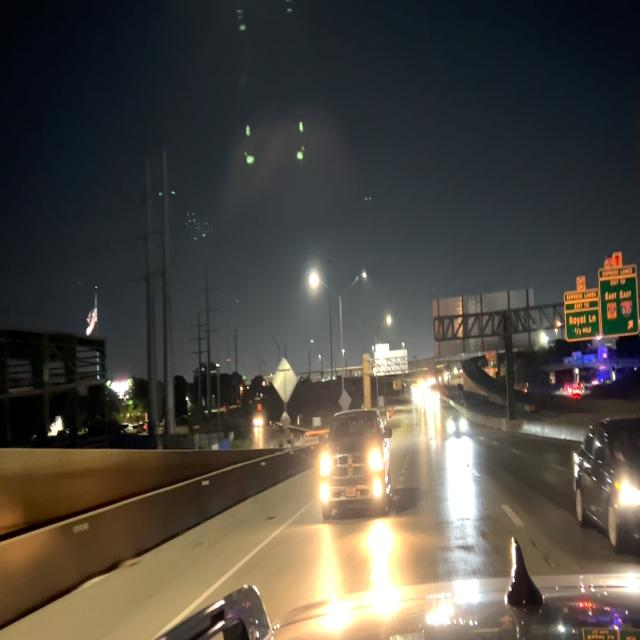back-of-sign: (432, 291, 538, 352), (273, 357, 297, 403), (377, 343, 408, 377)
